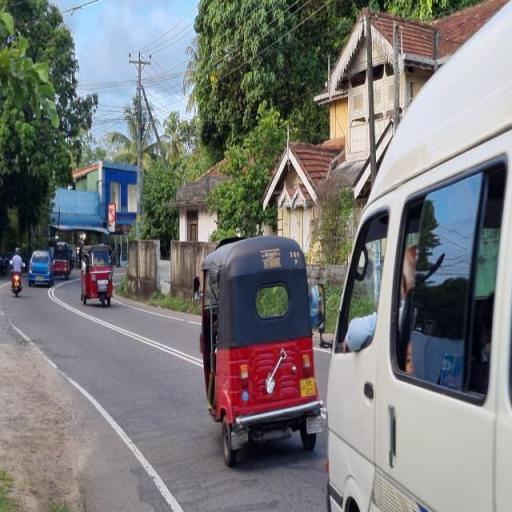double_white_line: (50, 278, 200, 368), (254, 278, 290, 316)
